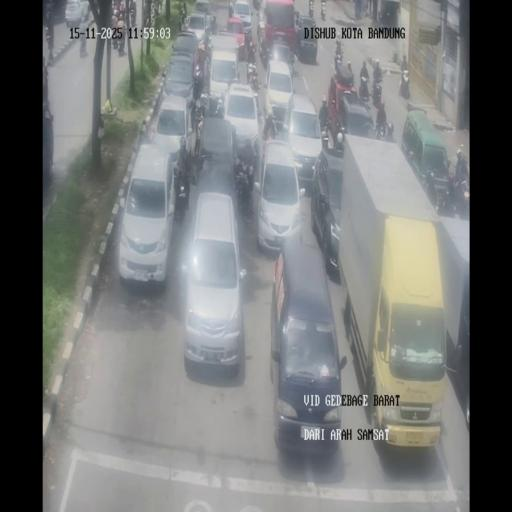3: (337, 139, 460, 448), (401, 109, 452, 211), (446, 272, 469, 439), (44, 1, 68, 24)
car: (271, 236, 343, 454), (182, 191, 246, 370), (118, 144, 176, 286), (281, 94, 323, 189), (314, 150, 343, 278), (222, 83, 262, 170), (163, 53, 199, 113), (338, 91, 376, 143), (266, 39, 295, 81), (295, 14, 319, 62), (226, 16, 250, 58), (184, 12, 209, 45), (66, 0, 90, 28)
truck: (234, 155, 254, 215), (172, 170, 190, 222), (451, 174, 469, 216), (246, 60, 260, 96), (207, 92, 225, 118), (375, 118, 394, 142), (258, 26, 269, 66), (262, 115, 278, 141), (193, 95, 205, 128), (79, 22, 88, 58), (110, 19, 120, 50), (372, 78, 383, 106), (359, 75, 370, 102), (399, 72, 410, 99), (202, 53, 210, 90), (320, 121, 330, 150), (246, 38, 256, 65), (335, 129, 345, 155), (373, 58, 383, 82), (178, 2, 186, 31), (143, 1, 151, 27), (380, 6, 390, 26), (45, 22, 53, 47), (334, 48, 343, 70), (258, 3, 267, 24), (204, 30, 212, 52), (210, 14, 217, 34), (401, 54, 408, 72), (290, 50, 296, 70), (320, 2, 326, 21), (361, 0, 368, 16), (129, 11, 136, 26), (294, 10, 300, 27), (308, 3, 314, 18), (229, 0, 234, 17)
